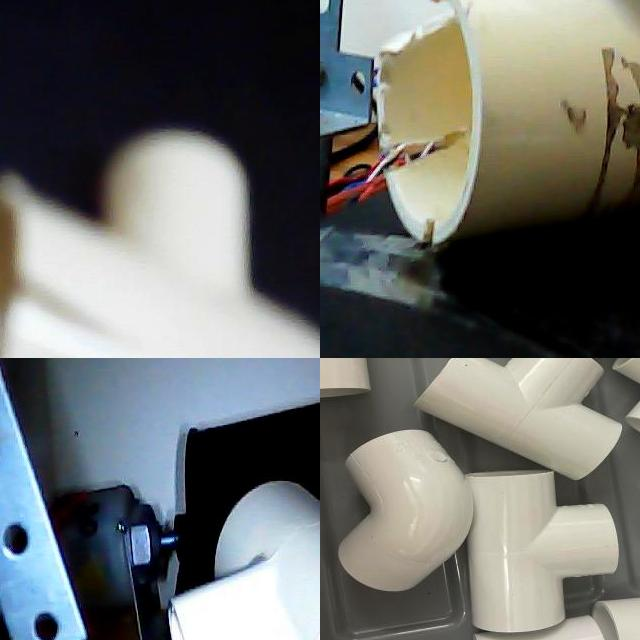Defective: (567, 27, 640, 227), (4, 259, 115, 358), (373, 0, 475, 71), (380, 125, 476, 197), (414, 204, 452, 254)
L Joint: (336, 428, 478, 597)
T Joint: (0, 128, 320, 358), (414, 358, 623, 481), (171, 480, 320, 640)
